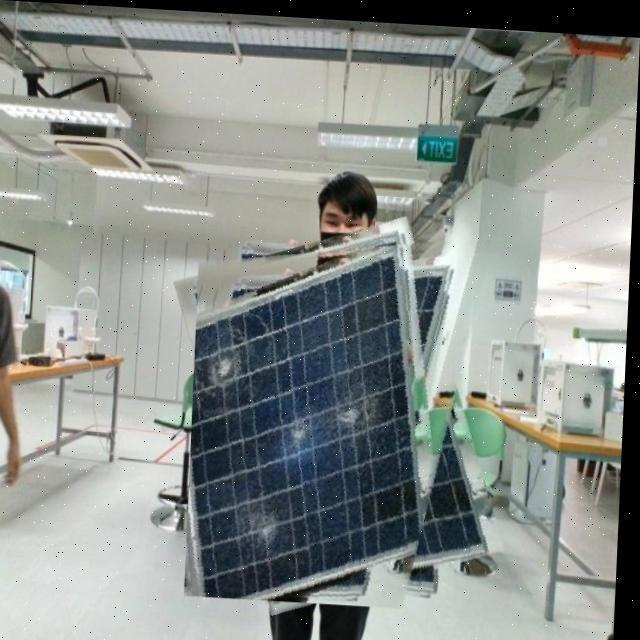Anomaly Solar Panel: (188, 243, 437, 604)
Structural Damage: (277, 374, 392, 467), (203, 316, 265, 399), (229, 493, 300, 560)
